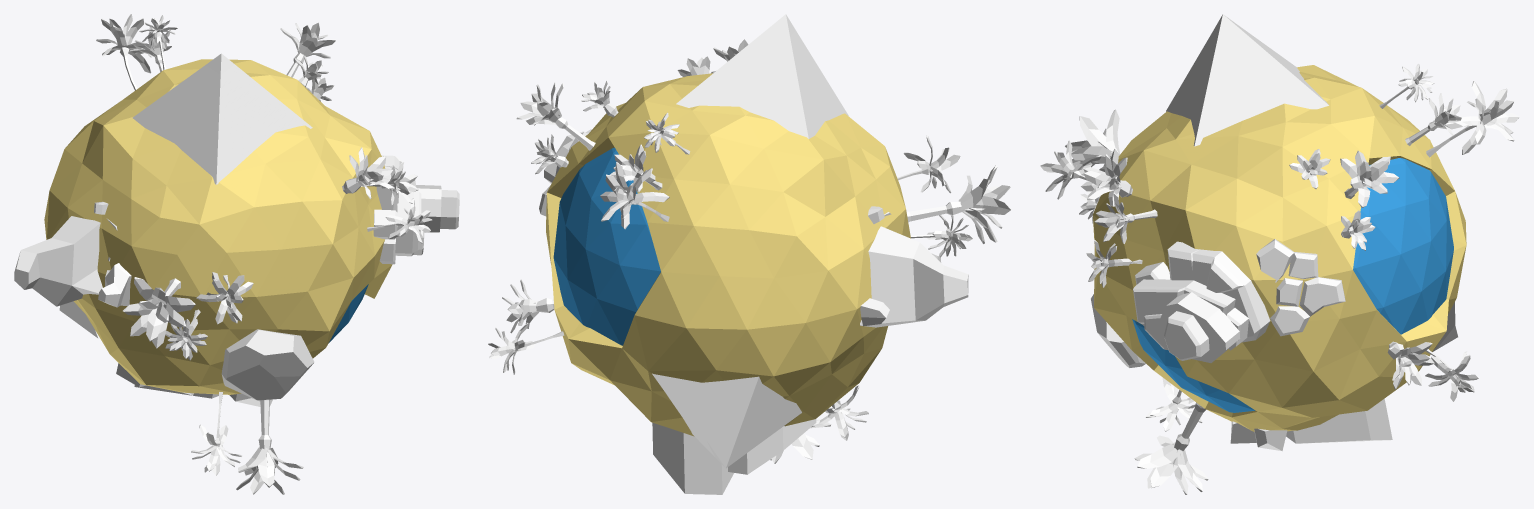
The model's file is projects_planet.gltf.
3 renders of one model, left to right at view 1: azimuth 30°, elevation 25°; view 2: azimuth 150°, elevation 25°; view 3: azimuth 270°, elevation 25°, orthographic. The views are drawn at different scales.
Visible parts, largest first — view 1: ground, Cone, Rock Type3 01 mesh.001, Rock Type2 03 mesh.001, Rock Type1 02 mesh, Tree Type7 03 Model.004, Tree Type7 03 Model.005, Tree Type7 02 Model.001, Tree Type7 02 Model.004, Tree Type7 01 Model.005, Tree Type7 02 Model.005, Tree Type7 03 Model.001 (+7 smaller); view 2: ground, sea, Cone, Cone.001, Rock Type3 01 mesh.001, Rock Type5 01 mesh.001, Tree Type7 03 Model.004, Tree Type7 02 Model.001, Tree Type7 03 Model.001, Tree Type7 02 Model.004, Tree Type7 01 Model.002, Tree Type7 04 Model.002 (+7 smaller); view 3: ground, sea, Rock Type1 02 mesh, Cone, Rock Type4 02 mesh.001, Rock Type5 01 mesh.001, Tree Type7 03 Model.005, Tree Type7 02 Model.001, Tree Type7 03 Model.001, Tree Type7 03 Model.004, Tree Type7 01 Model.005, Tree Type7 01 Model.002 (+10 smaller).
Boxes of the visible parts, left/top/right/bottom form: ground: left=44, top=59, right=392, bottom=394; Cone: left=132, top=53, right=312, bottom=184; Rock Type3 01 mesh.001: left=14, top=201, right=131, bottom=307; Rock Type2 03 mesh.001: left=221, top=329, right=314, bottom=400; Rock Type1 02 mesh: left=373, top=155, right=459, bottom=264; Tree Type7 03 Model.004: left=123, top=277, right=195, bottom=348; Tree Type7 03 Model.005: left=236, top=399, right=303, bottom=494; Tree Type7 02 Model.001: left=96, top=14, right=152, bottom=90; Tree Type7 02 Model.004: left=196, top=272, right=253, bottom=324; Tree Type7 01 Model.005: left=342, top=147, right=394, bottom=198; Tree Type7 02 Model.005: left=191, top=392, right=241, bottom=475; Tree Type7 03 Model.001: left=280, top=22, right=335, bottom=77; ground: left=546, top=73, right=910, bottom=436; sea: left=553, top=147, right=660, bottom=345; Cone: left=676, top=14, right=848, bottom=138; Cone.001: left=652, top=373, right=801, bottom=468; Rock Type3 01 mesh.001: left=860, top=206, right=968, bottom=327; Rock Type5 01 mesh.001: left=652, top=419, right=816, bottom=494; Tree Type7 03 Model.004: left=906, top=165, right=1011, bottom=243; Tree Type7 02 Model.001: left=600, top=162, right=669, bottom=229; Tree Type7 03 Model.001: left=516, top=82, right=595, bottom=150; Tree Type7 02 Model.004: left=897, top=135, right=960, bottom=193; Tree Type7 01 Model.002: left=502, top=279, right=554, bottom=333; Tree Type7 04 Model.002: left=910, top=215, right=972, bottom=257; ground: left=1092, top=65, right=1466, bottom=431; sea: left=1132, top=158, right=1453, bottom=412; Rock Type1 02 mesh: left=1133, top=241, right=1270, bottom=362; Cone: left=1166, top=14, right=1328, bottom=146; Rock Type4 02 mesh.001: left=1256, top=239, right=1345, bottom=336; Rock Type5 01 mesh.001: left=1230, top=398, right=1392, bottom=451; Tree Type7 03 Model.005: left=1134, top=402, right=1208, bottom=494; Tree Type7 02 Model.001: left=1426, top=81, right=1519, bottom=157; Tree Type7 03 Model.001: left=1340, top=150, right=1399, bottom=207; Tree Type7 03 Model.004: left=1065, top=109, right=1120, bottom=171; Tree Type7 01 Model.005: left=1081, top=148, right=1132, bottom=206; Tree Type7 01 Model.002: left=1387, top=341, right=1434, bottom=389.
Bounding box in the file's own units: 3.62 × 3.6 × 3.36.
